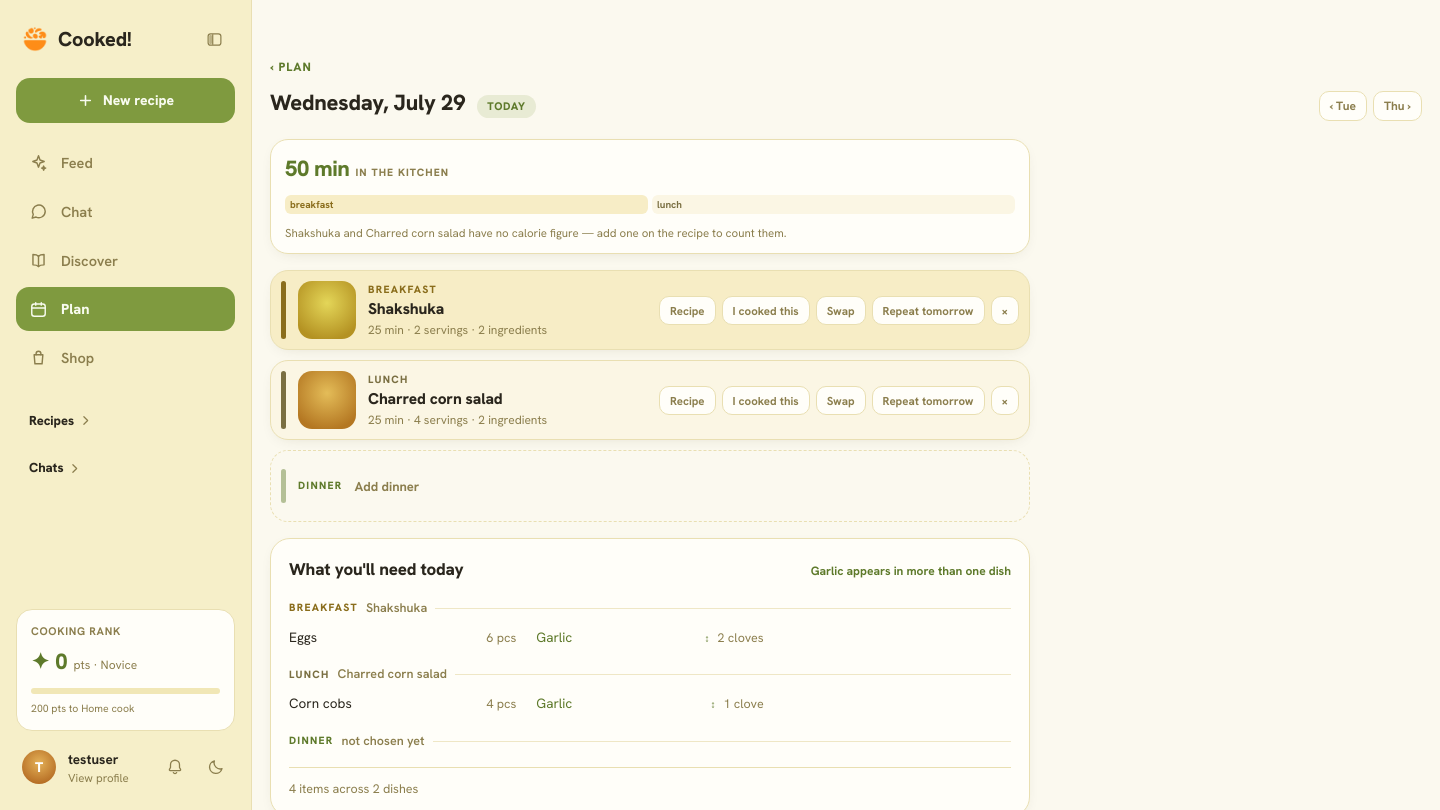
Test: the day page › swaps a filled slot without leaving it empty on failure
Step 1. Click the button with aria-label "swap shakshuka" → coordinates (841, 310), box [816,296,866,325]
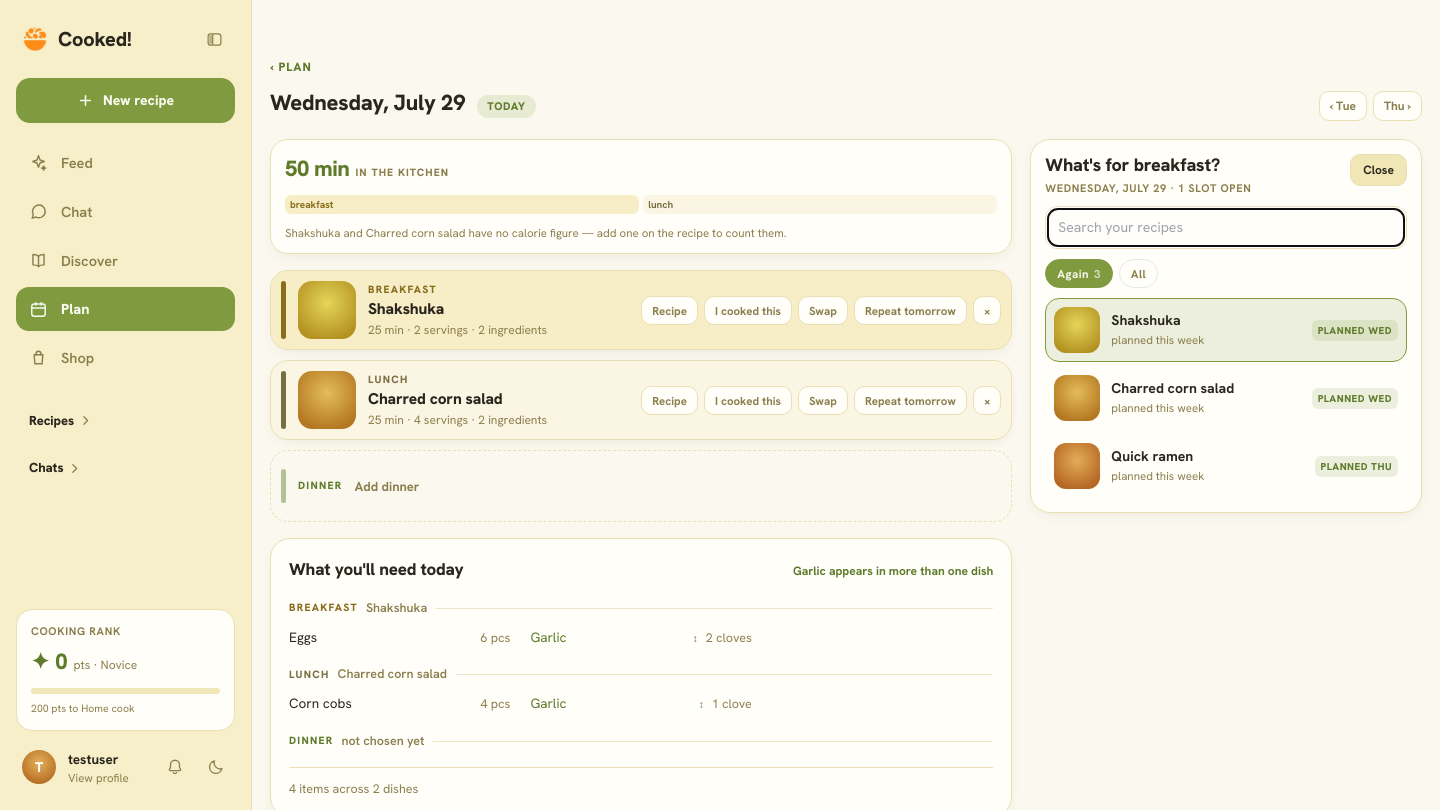
Step 2. Click the tab "All" → coordinates (1139, 274), box [1119,259,1158,288]
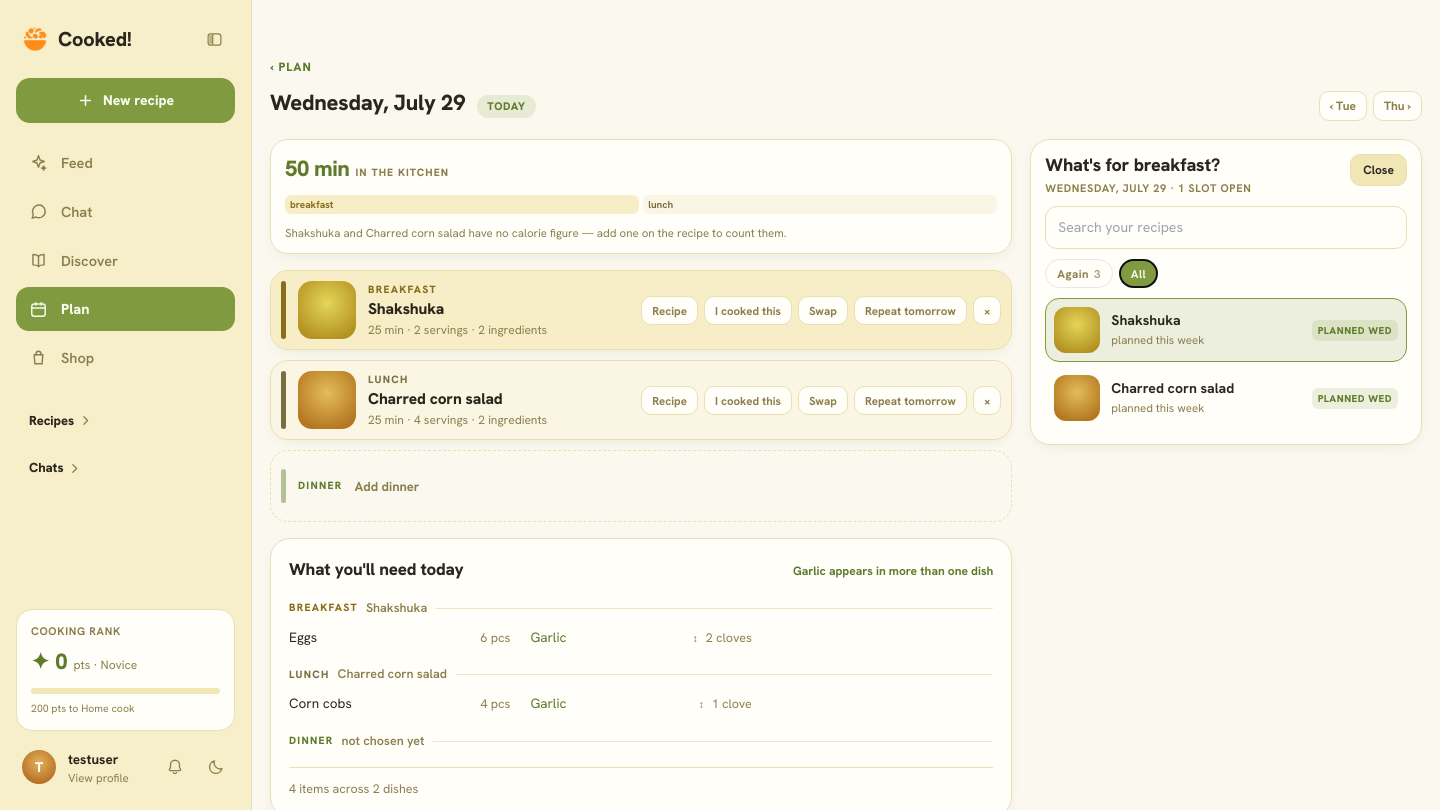
Step 3. Click the button "Charred corn salad" → coordinates (1226, 398), box [1045,366,1407,430]
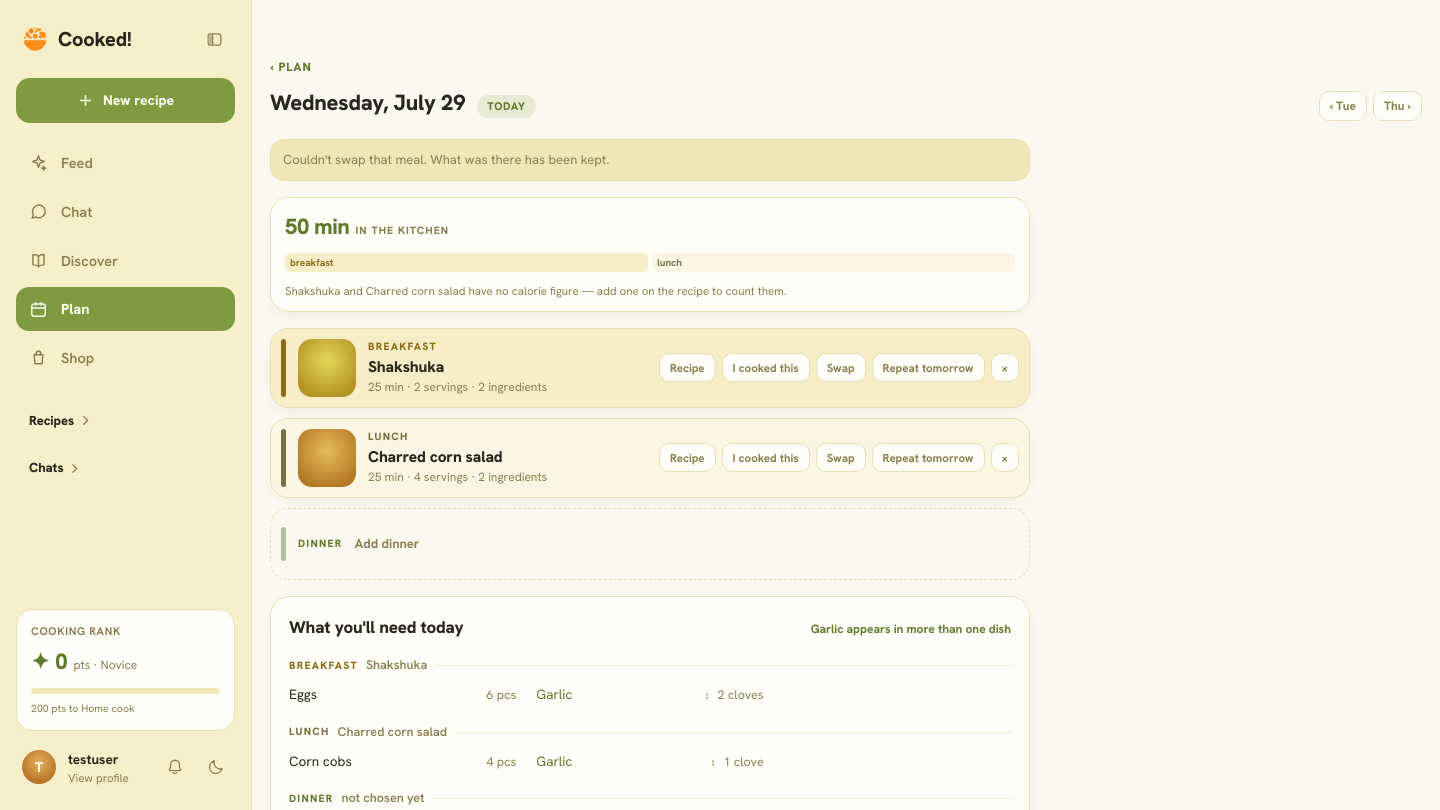
Result: the text "Couldn't swap that meal. What was there has been kept." is shown at [270,139,1030,180]
